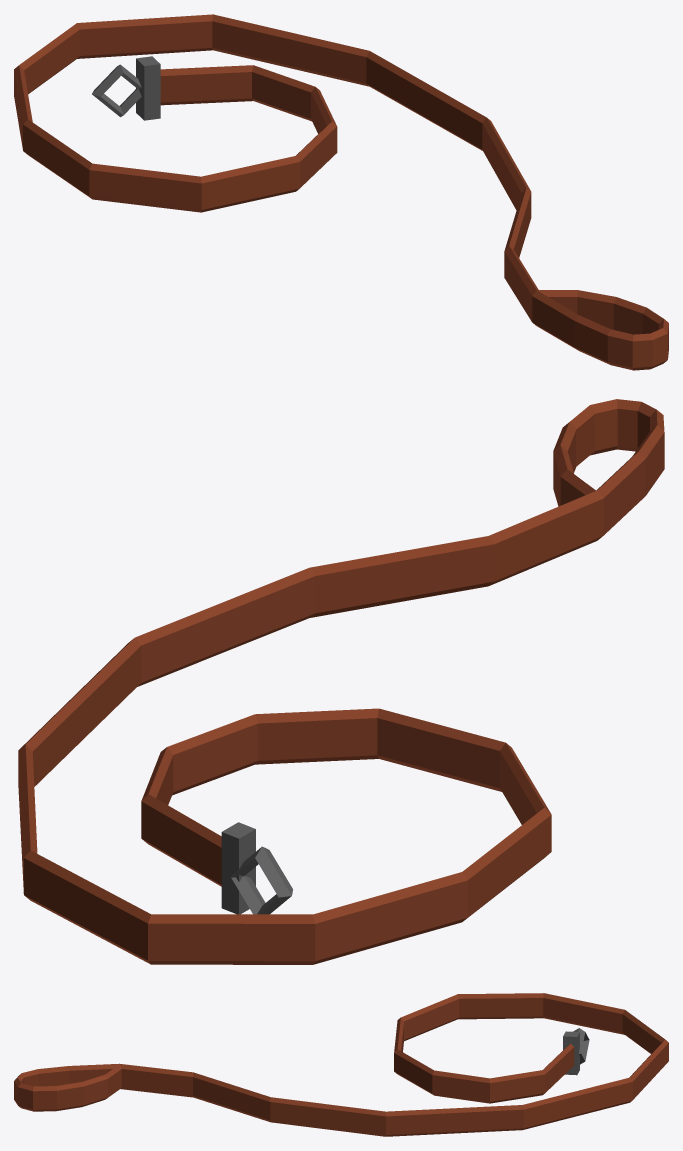
File: Leash.fbx
The picture shows the model from 3 angles, top to bottom: view 1: azimuth 30°, elevation 25°; view 2: azimuth 150°, elevation 25°; view 3: azimuth 270°, elevation 25°; orthographic projection. The views are drawn at different scales.
Visible parts, largest first — view 1: BezierCurve; view 2: BezierCurve; view 3: BezierCurve.
Part boxes in pixels (x1,y1,x2,y2): BezierCurve: (14,14,668,370); BezierCurve: (18,399,664,964); BezierCurve: (14,993,668,1136).
Size of the model in its own units: 182 by 26.84 by 415.
